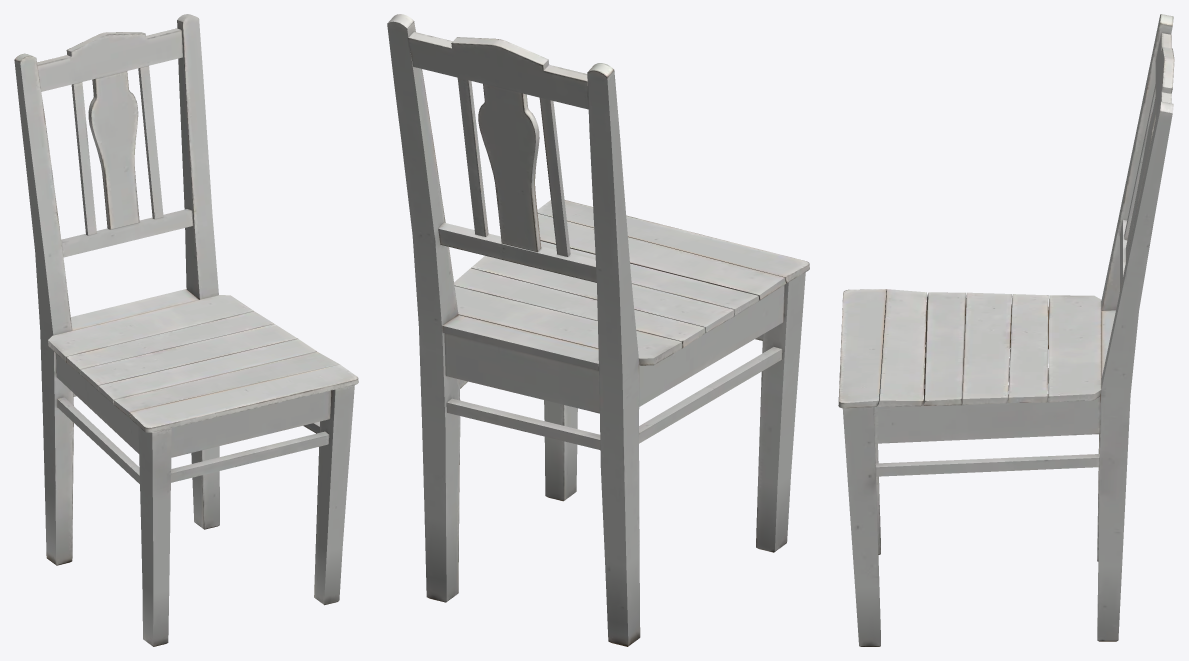
File: painted_wooden_chair_01.glb
3 renders of one model, left to right at view 1: azimuth 30°, elevation 25°; view 2: azimuth 150°, elevation 25°; view 3: azimuth 270°, elevation 25°, orthographic. The views are drawn at different scales.
Visible parts, largest first — view 1: painted_wooden_chair_01; view 2: painted_wooden_chair_01; view 3: painted_wooden_chair_01.
Part boxes in pixels (x1=…): painted_wooden_chair_01: x1=14, y1=14, x2=358, y2=646; painted_wooden_chair_01: x1=387, y1=14, x2=809, y2=646; painted_wooden_chair_01: x1=838, y1=14, x2=1174, y2=646.
Bounding box in the file's own units: 0.4318 × 0.9565 × 0.5398.
Materials: 1 (1 with a texture image).
